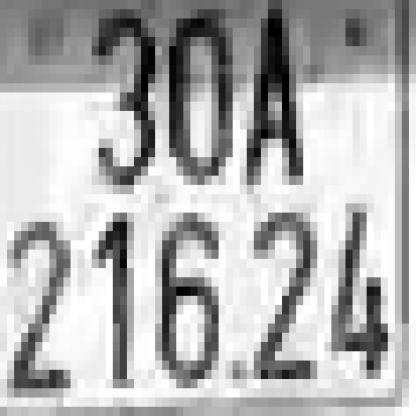0: (169, 18, 226, 185)
1: (85, 213, 148, 379)
2: (7, 222, 78, 379), (247, 213, 310, 379)
3: (99, 9, 155, 185)
4: (324, 203, 381, 370)
6: (155, 203, 212, 379)
A: (240, 18, 296, 185)
